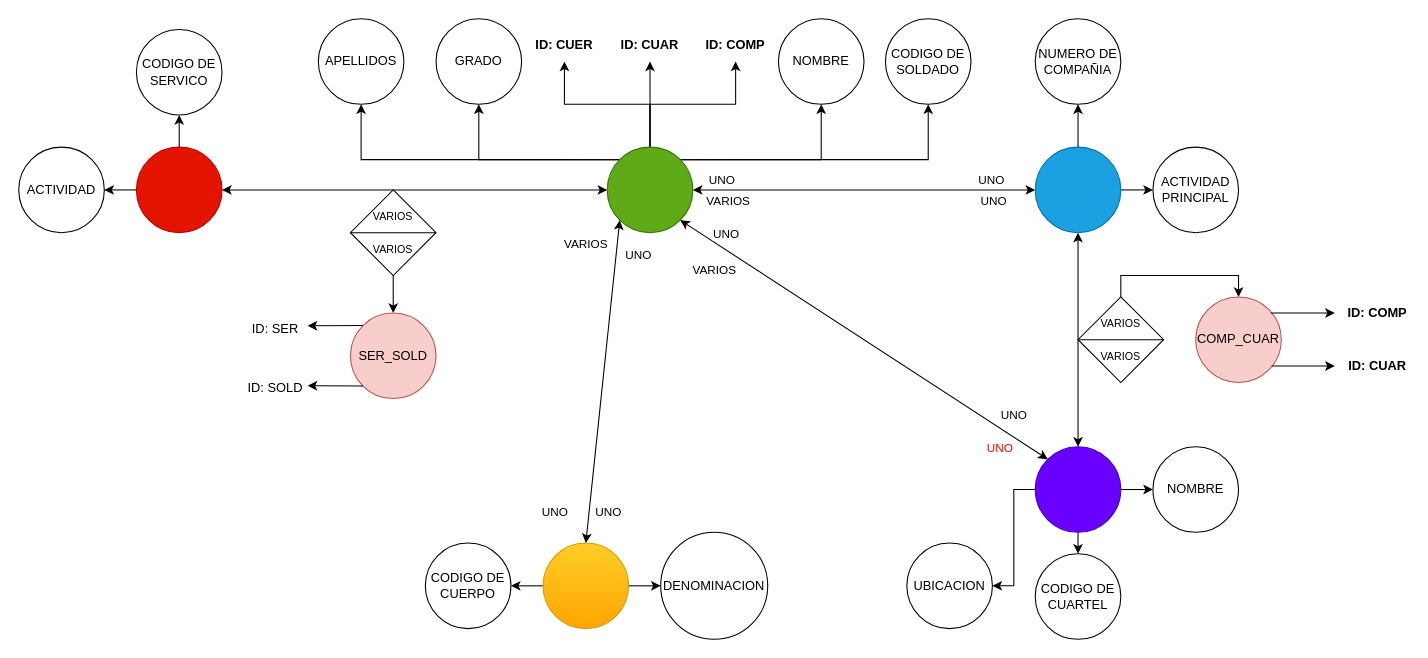
Image size: 1428x658. Some labels were removed from this diagram. The shapes that lost their labels are listed below. From the top down, each one's centre as x and y in pixels, then its label:
point 178,189: SERVICIOS
point 649,189: SOLDADOS
point 1077,189: COMPAÑIAS
point 1077,489: CUARTELES
point 585,585: CUERPOS DE EJERCITO
